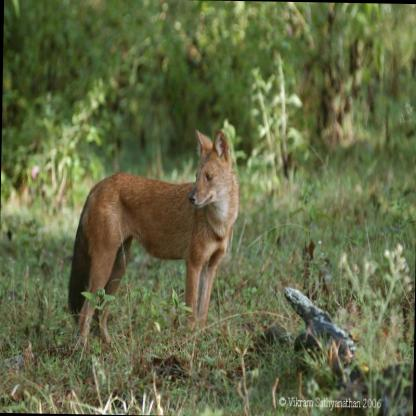dhole: (66, 128, 240, 346)
